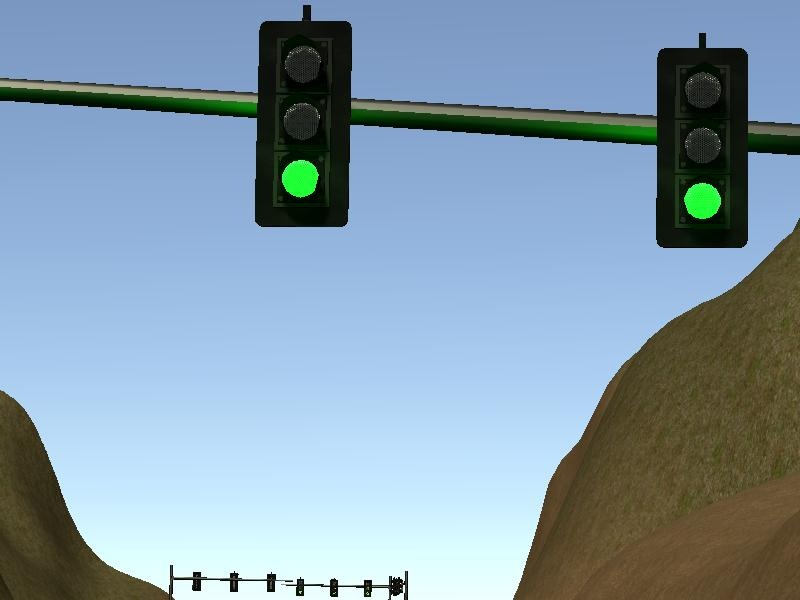green: (250, 18, 355, 230), (656, 46, 748, 249)
